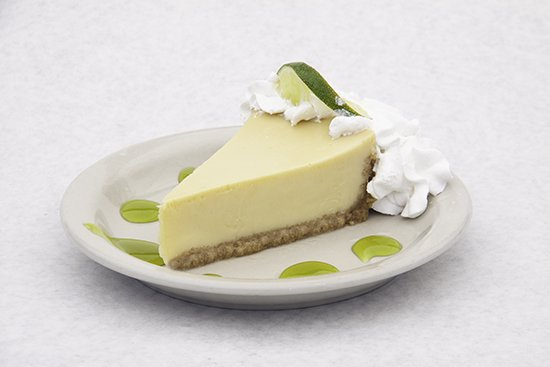curry: (25, 5, 548, 361)
sushi: (155, 61, 382, 271)
